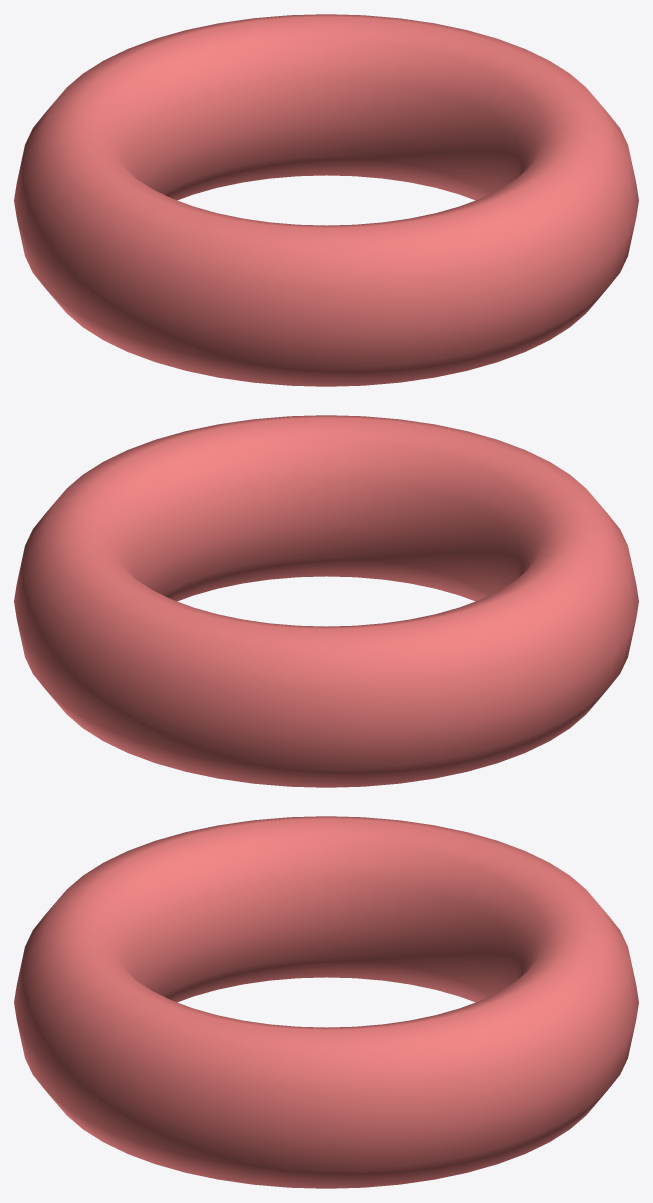
The model's file is Salvavidas.fbx.
3 views of the same model, one above another, from view 1: azimuth 30°, elevation 25°; view 2: azimuth 150°, elevation 25°; view 3: azimuth 270°, elevation 25° (orthographic).
Visible parts, largest first — view 1: Torus; view 2: Torus; view 3: Torus.
Boxes of the visible parts, box(x1,y1,x2,y2) form: Torus: box(14, 14, 638, 386); Torus: box(14, 415, 638, 787); Torus: box(14, 816, 638, 1188).
Bounding box in the file's own units: 38.25 × 10.51 × 38.25.
